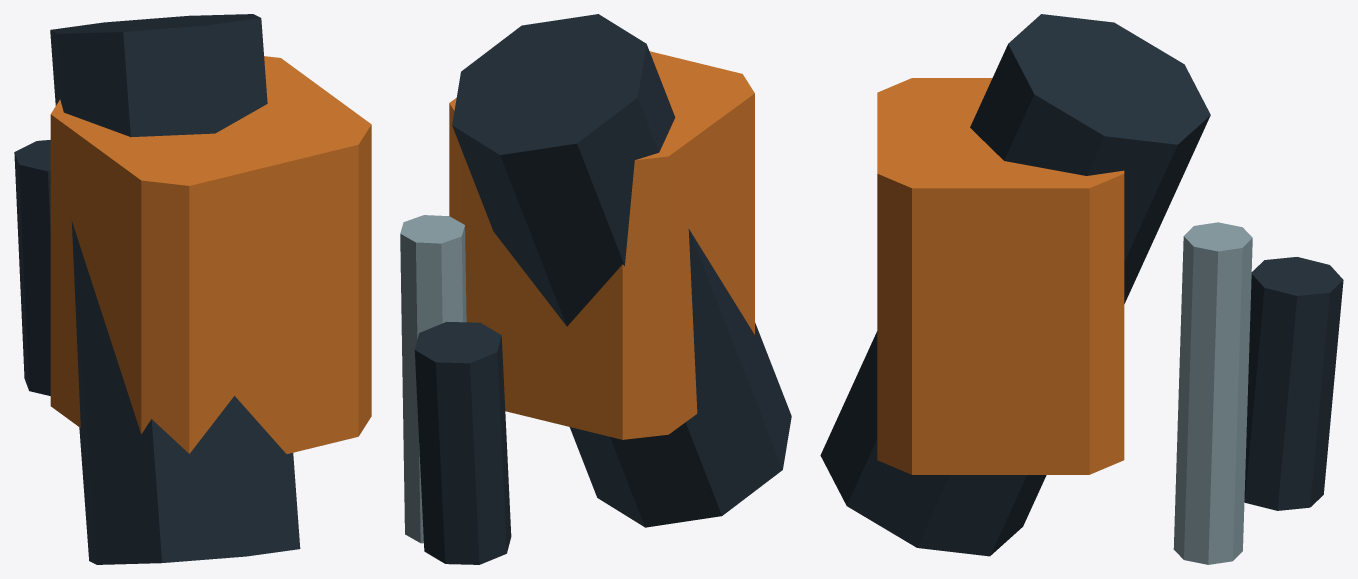
Rendered from enemy_runner_thigh_l.obj.
The picture shows the model from 3 angles, left to right: view 1: azimuth 30°, elevation 25°; view 2: azimuth 150°, elevation 25°; view 3: azimuth 270°, elevation 25°; orthographic projection. The views are drawn at different scales.
Size of the model in its own units: 0.3062 by 0.5695 by 0.5294.
